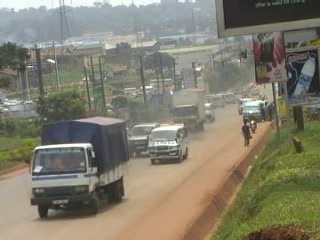Car: (124, 120, 161, 155)
Motorcycle: (247, 111, 259, 134)
